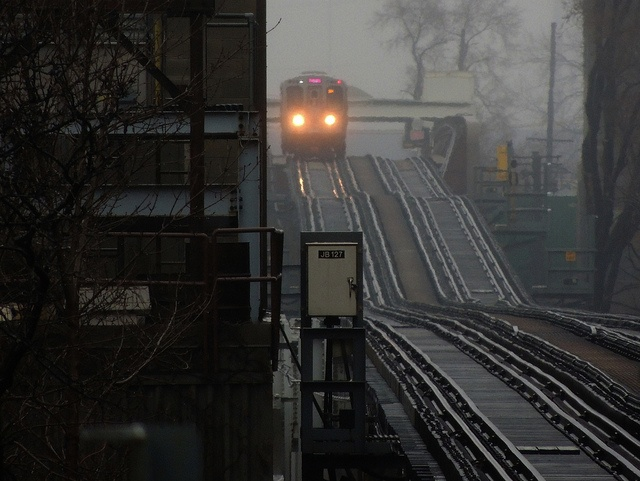train: (282, 76, 640, 234)
